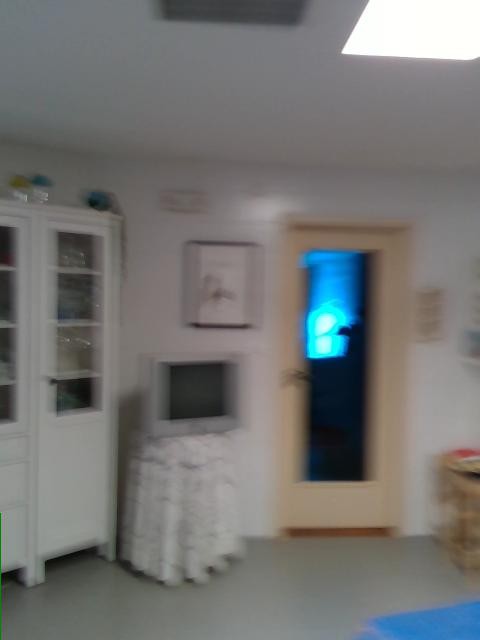closed_door: (270, 218, 408, 544)
